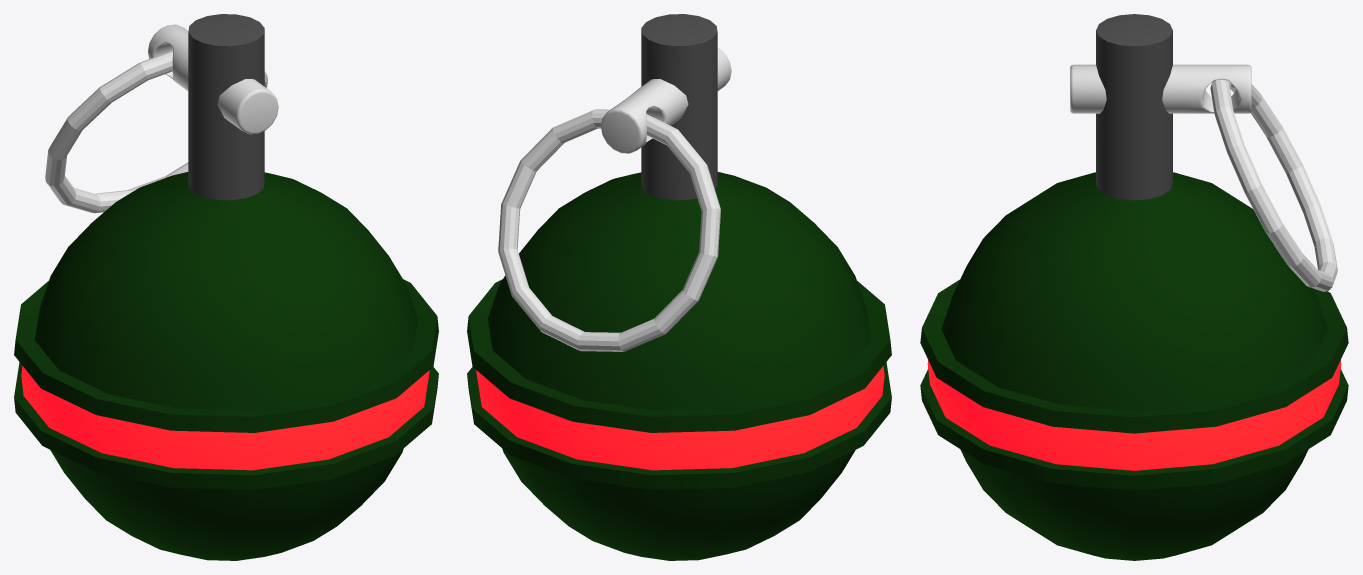
Rendered from FragmentationGranate.fbx.
The picture shows the model from 3 angles, left to right: view 1: azimuth 30°, elevation 25°; view 2: azimuth 150°, elevation 25°; view 3: azimuth 270°, elevation 25°; orthographic projection.
Parts seen in each view (by area): view 1: MainPart.001, Circle.001, Holder; view 2: MainPart.001, Circle.001, Holder; view 3: MainPart.001, Circle.001, Holder.
Boxes of the visible parts, box(x1,y1,x2,y2) form: MainPart.001: box(14, 14, 438, 560); Circle.001: box(45, 50, 267, 213); Holder: box(148, 24, 278, 134); MainPart.001: box(467, 14, 891, 560); Circle.001: box(498, 109, 720, 351); Holder: box(601, 47, 731, 153); MainPart.001: box(920, 14, 1348, 560); Circle.001: box(1210, 79, 1337, 291); Holder: box(1070, 64, 1251, 113).
Bounding box in the file's own units: 217 × 289 × 217.
